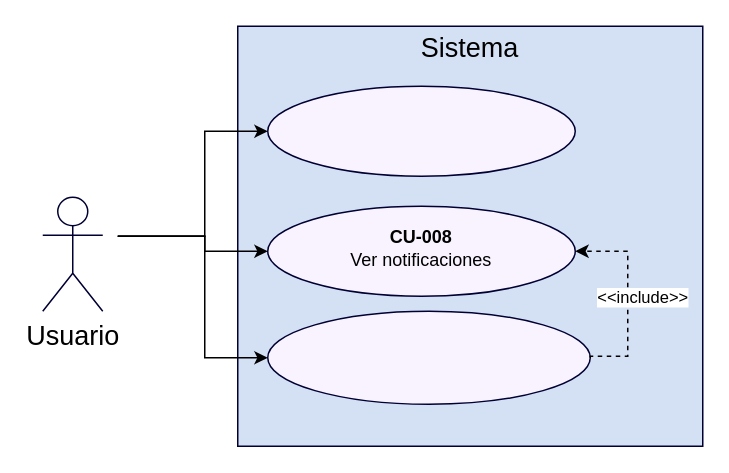
The diagram is 729 pixels wide and 473 high, and some of its shapes have lost their labels. The box of each missing label's shape, as (x1, y1, x2, y2) in pixels:
CU-007 Recibir notificaciones: (266, 85, 575, 176)
CU-009 Marcar notificaciones como leídas: (266, 310, 590, 404)
